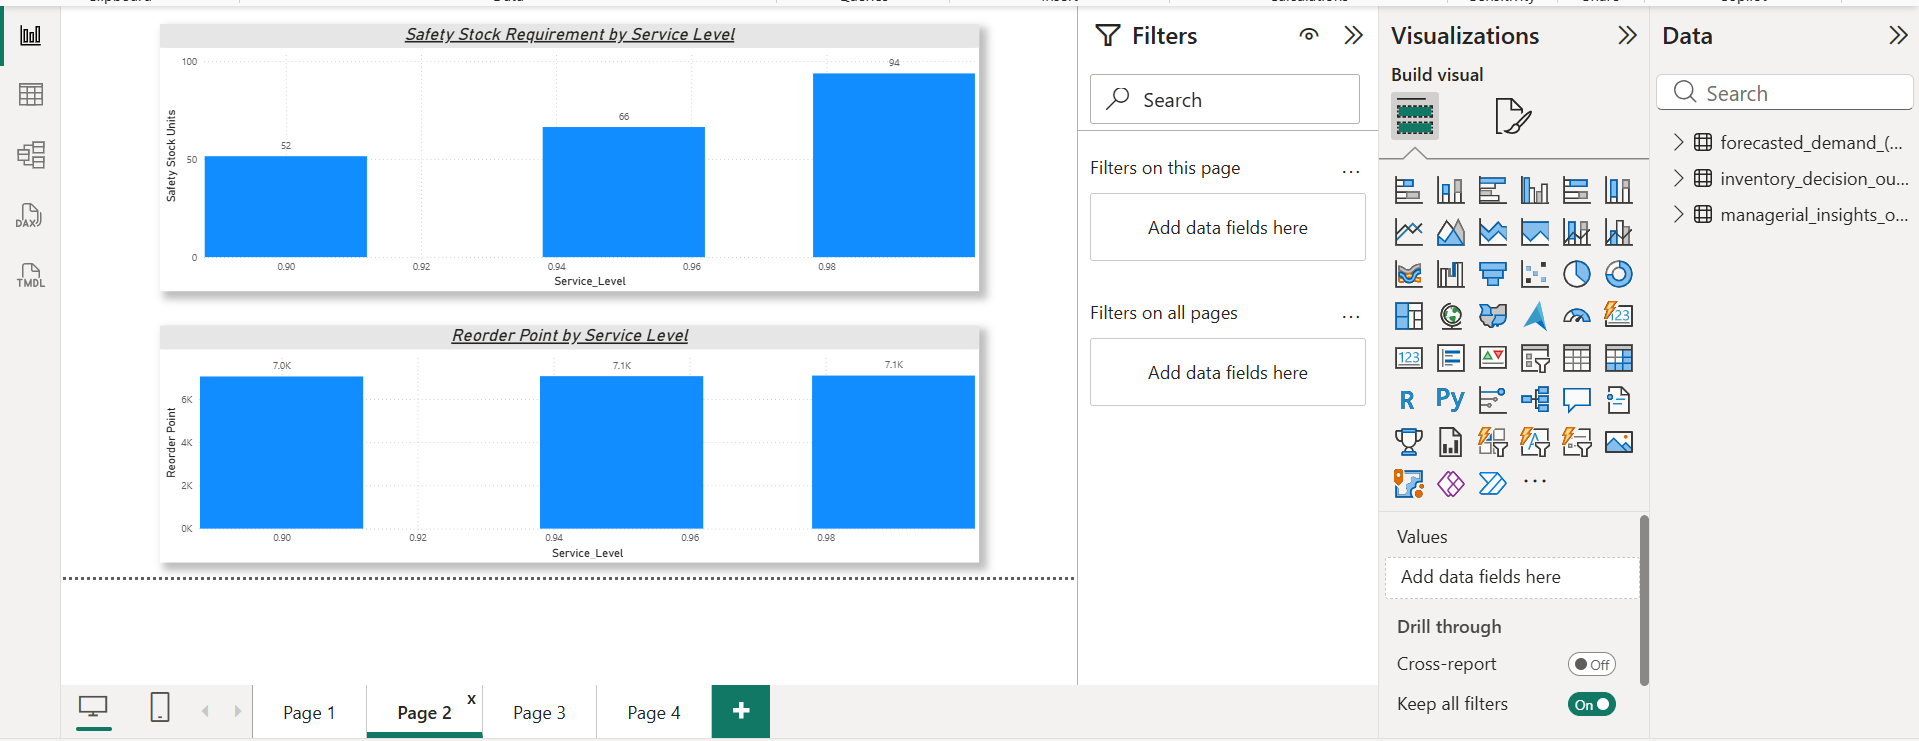

Layout of this report page (visuals, bound fields, positions):
{"tool":"powerbi","page":{"name":"Page 2","canvas":[1280,720],"ordinal":1},"visuals":[{"type":"clusteredColumnChart","title":"Safety Stock Requirement by Service Level","fields":{"Y":["Avg(inventory_decision_output_(NoteBook3).Safety_Stock)"],"Category":["inventory_decision_output_(NoteBook3).Service_Level"]},"box":[124.7,22.7,1031.8,336.4],"z":0},{"type":"clusteredColumnChart","title":"Reorder Point by Service Level","fields":{"Y":["Avg(inventory_decision_output_(NoteBook3).Reorder_Point)"],"Category":["inventory_decision_output_(NoteBook3).Service_Level"]},"box":[124.7,402.5,1031.8,298.6],"z":1000}]}

Visuals, with their boxes on the page's 1280x720 design canvas (x1, y1, x2, y2). These are canvas units, not pixel positions in the 1919x741 screenshot, which may show the page scaled, cropped or inside an application window:
"Safety Stock Requirement by Service Level" clusteredColumnChart: [left=125, top=23, right=1156, bottom=359]
"Reorder Point by Service Level" clusteredColumnChart: [left=125, top=402, right=1156, bottom=701]
